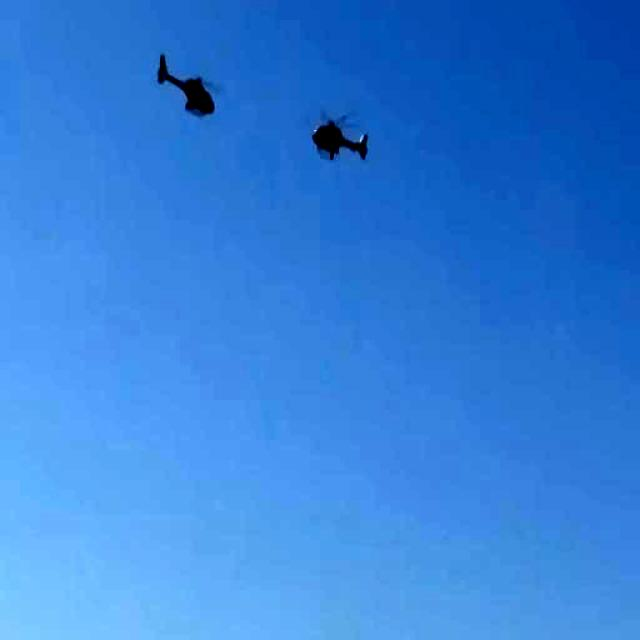drone: (159, 42, 214, 125), (309, 92, 372, 161)
